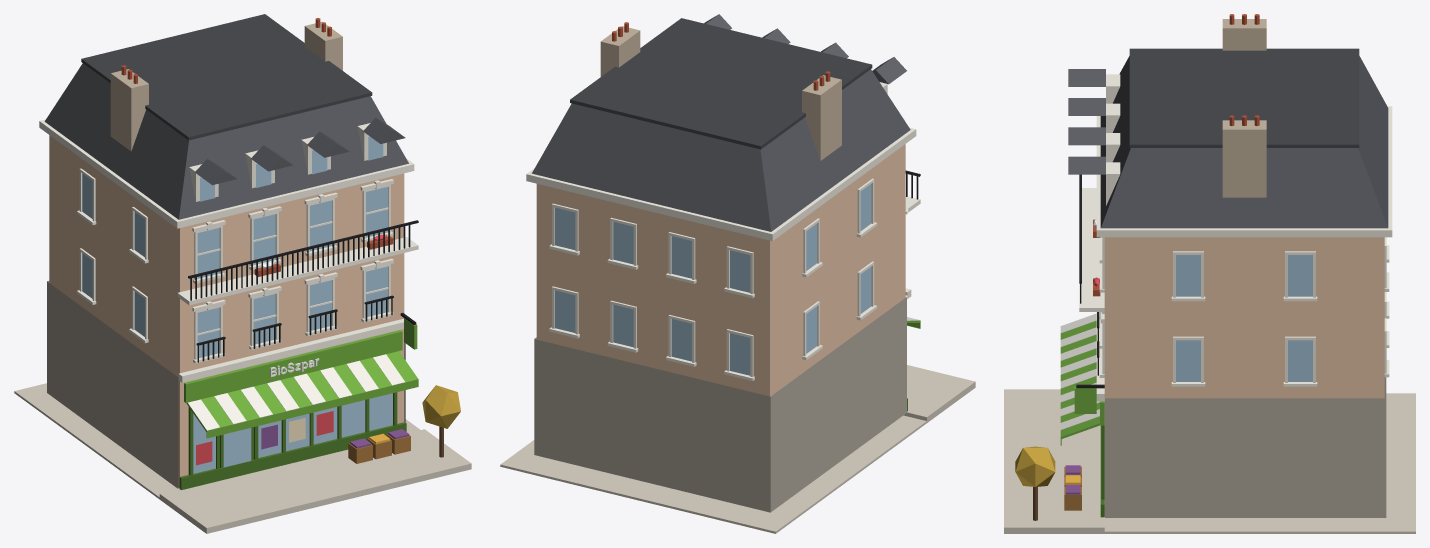
The model's file is Dukkan_bioszpar_Hafif.fbx.
3 views of the same model, side by side, from view 1: azimuth 30°, elevation 25°; view 2: azimuth 150°, elevation 25°; view 3: azimuth 270°, elevation 25° (orthographic). The views are drawn at different scales.
Visible parts, largest first — view 1: Dukkan_bioszpar_Hafif; view 2: Dukkan_bioszpar_Hafif; view 3: Dukkan_bioszpar_Hafif.
Part boxes in pixels (bbox=[...]): Dukkan_bioszpar_Hafif: bbox=[14, 14, 471, 533]; Dukkan_bioszpar_Hafif: bbox=[500, 14, 975, 533]; Dukkan_bioszpar_Hafif: bbox=[1004, 14, 1415, 533].
Size of the model in its own units: 10.47 by 14.02 by 13.12.
